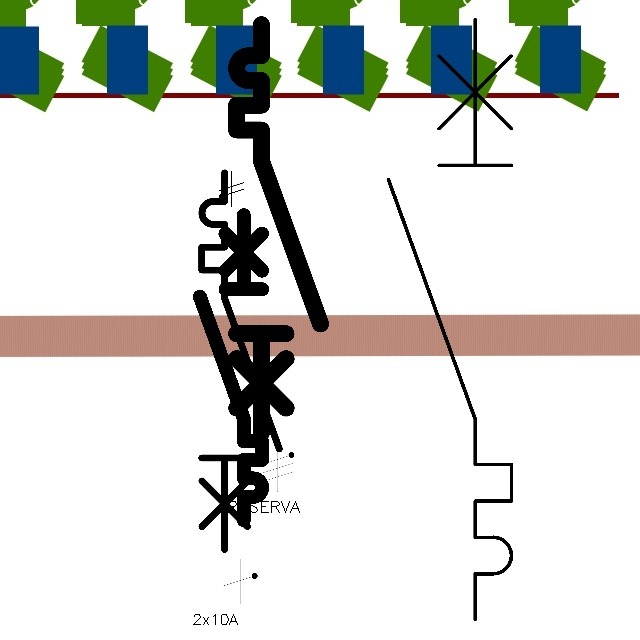interruptor_termomagnetico: (373, 4, 527, 635), (226, 14, 331, 444), (192, 163, 289, 559), (192, 207, 270, 528)
